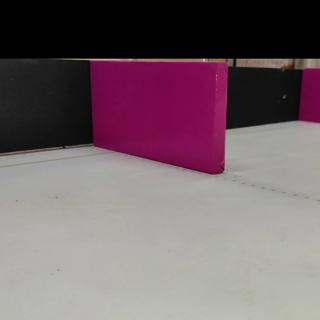xparking: (91, 63, 224, 163), (305, 71, 320, 122)
